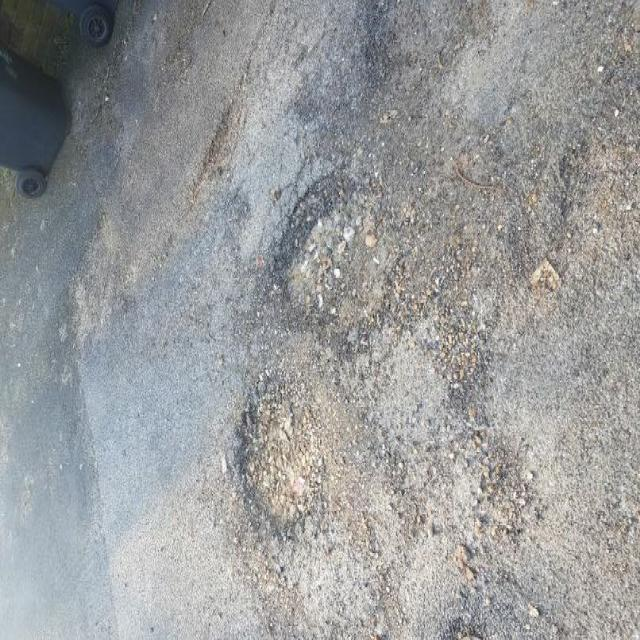Pothole: (274, 161, 401, 348), (228, 352, 334, 546)
